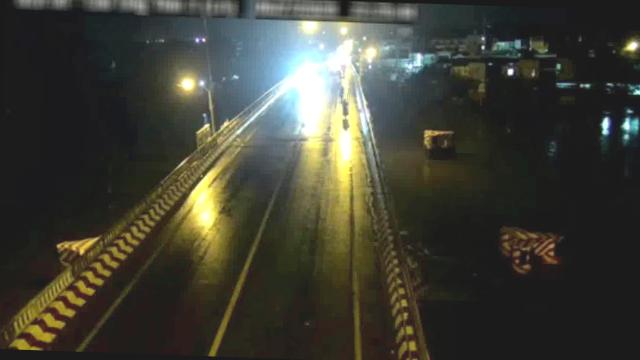Bike: (340, 95, 350, 117)
